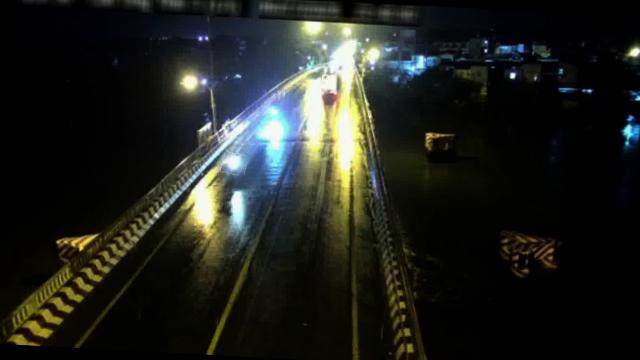Bike: (220, 152, 247, 175)
